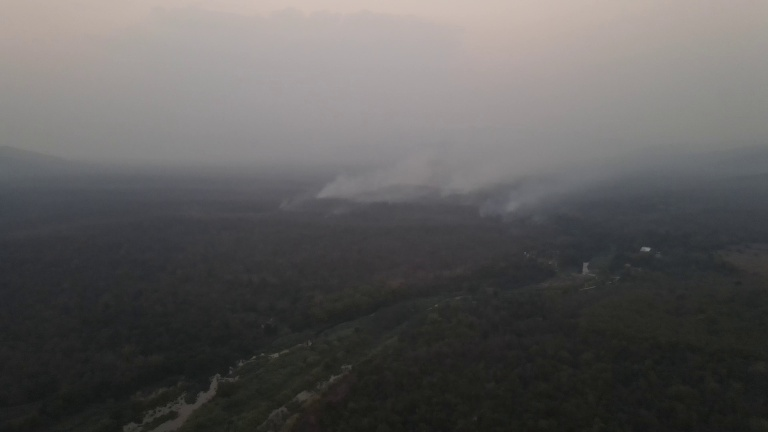smoke: (314, 137, 570, 218)
